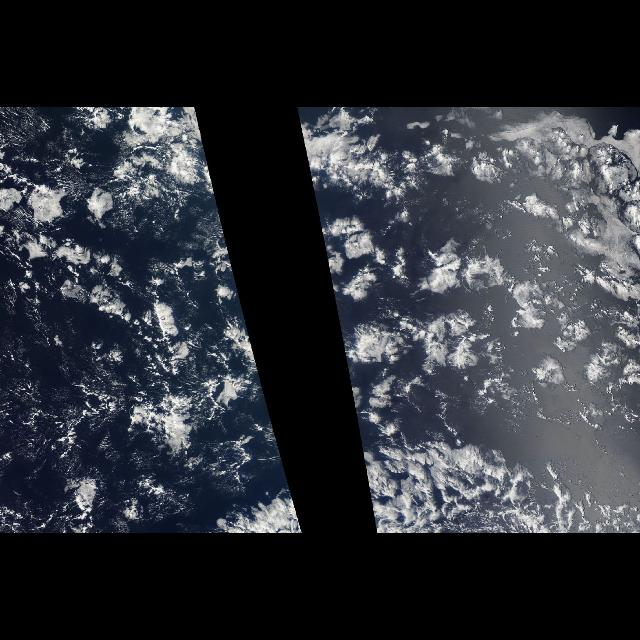Fish: (360, 437, 620, 527), (210, 437, 300, 527)
Flower: (295, 110, 639, 456), (3, 110, 281, 456)
Gravel: (3, 305, 266, 497)
